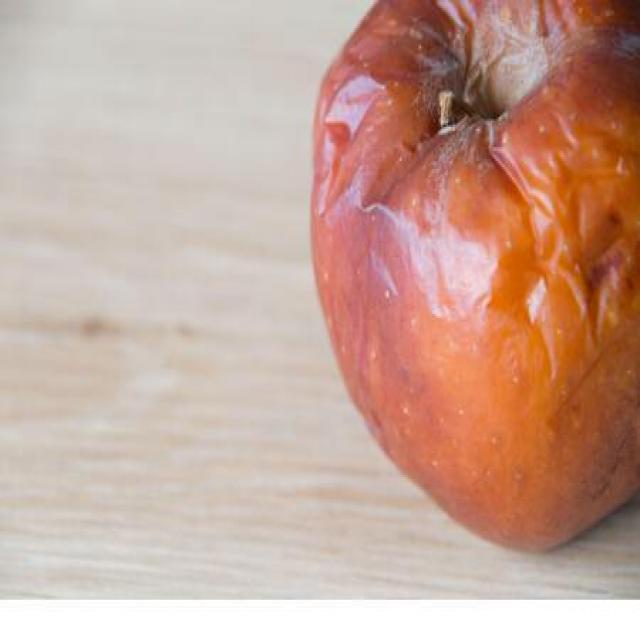Rotten: (297, 0, 640, 557)
